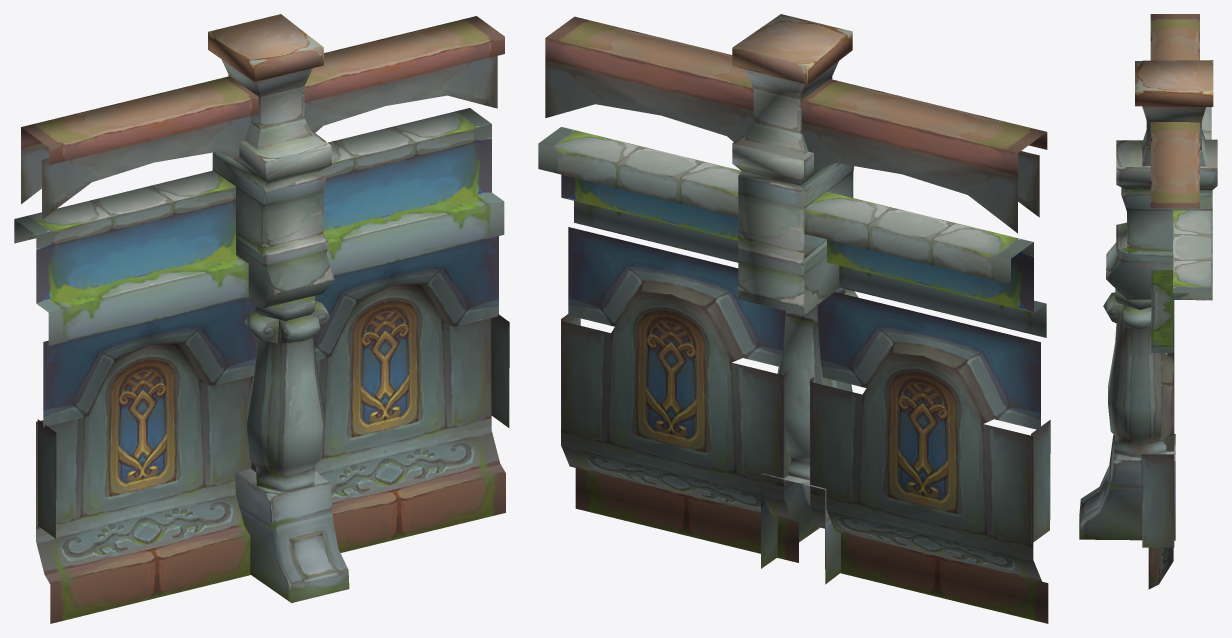
Rendered from Map_06_wall16.FBX.
The picture shows the model from 3 angles, left to right: view 1: azimuth 30°, elevation 25°; view 2: azimuth 150°, elevation 25°; view 3: azimuth 270°, elevation 25°; orthographic projection. The views are drawn at different scales.
Parts seen in each view (by area): view 1: Map_06_wall16; view 2: Map_06_wall16; view 3: Map_06_wall16.
Part boxes in pixels (x1=…): Map_06_wall16: x1=14, y1=14, x2=509, y2=623; Map_06_wall16: x1=538, y1=14, x2=1050, y2=623; Map_06_wall16: x1=1079, y1=14, x2=1217, y2=589.
Bounding box in the file's own units: 749 × 225 × 813.
